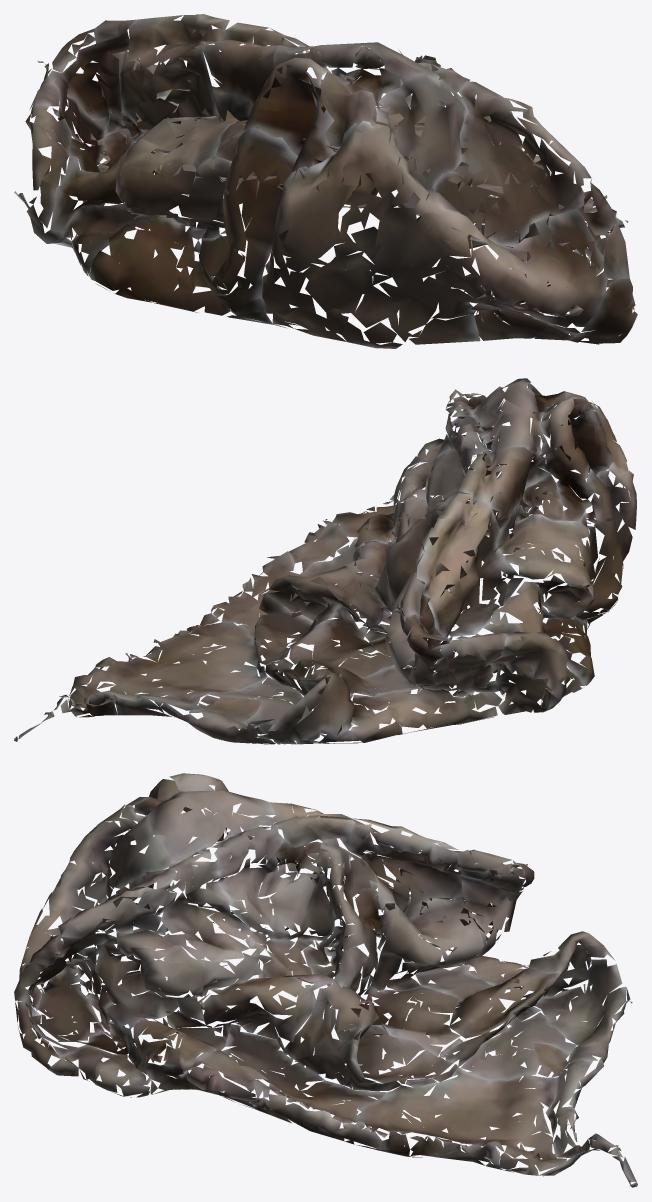
The model's file is dirty_rag.glb.
3 views of the same model, one above another, from view 1: azimuth 30°, elevation 25°; view 2: azimuth 150°, elevation 25°; view 3: azimuth 270°, elevation 25° (orthographic). The views are drawn at different scales.
Visible parts, largest first — view 1: Object_5, Object_4, Object_6; view 2: Object_4, Object_5, Object_6; view 3: Object_5, Object_4, Object_6.
Part boxes in pixels (box(x1,y1,x2,y2)): Object_5: box(25, 19, 635, 348); Object_4: box(29, 14, 637, 343); Object_6: box(14, 29, 634, 343); Object_4: box(53, 395, 630, 744); Object_5: box(18, 378, 636, 744); Object_6: box(14, 389, 632, 744); Object_5: box(15, 779, 636, 1184); Object_4: box(14, 773, 622, 1171); Object_6: box(17, 785, 637, 1187).
Size of the model in its own units: 1.39 by 0.7797 by 1.71.
1 material, 1 textured.
